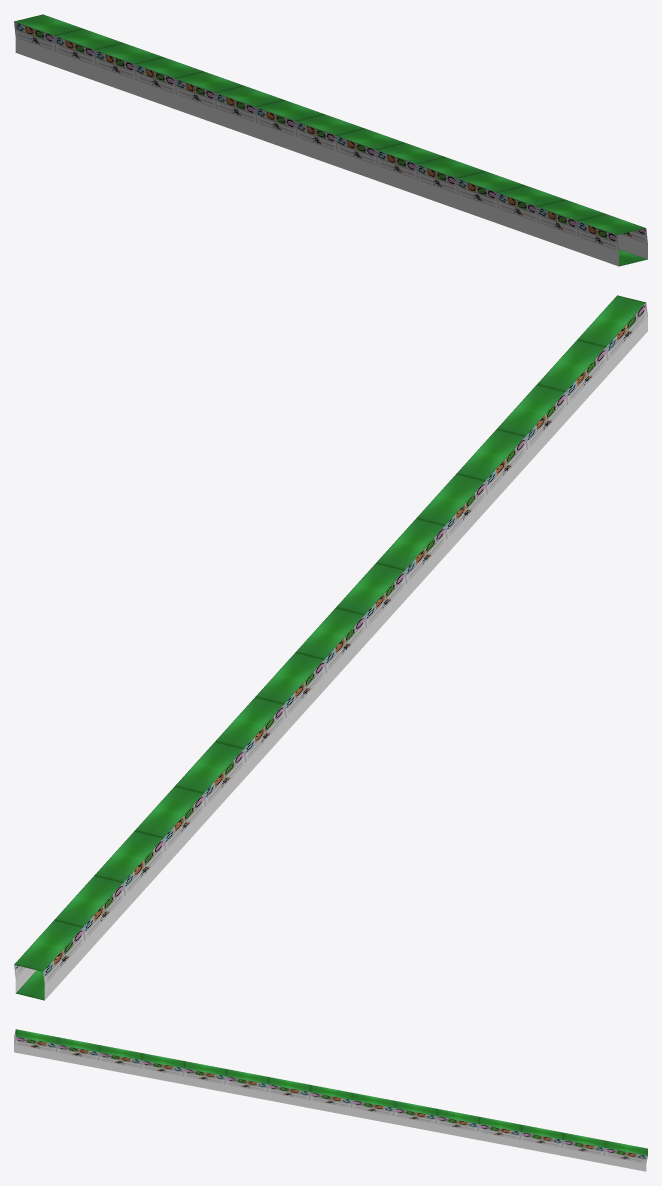
File: CourseSpring_Box_Wall_L_5.fbx
The picture shows the model from 3 angles, top to bottom: view 1: azimuth 30°, elevation 25°; view 2: azimuth 150°, elevation 25°; view 3: azimuth 270°, elevation 25°; orthographic projection. The views are drawn at different scales.
Parts seen in each view (by area): view 1: polySurface39; view 2: polySurface39; view 3: polySurface39.
Part boxes in pixels (box(x1,y1,x2,y2)): polySurface39: box(14, 14, 647, 266); polySurface39: box(14, 295, 647, 1000); polySurface39: box(14, 1029, 647, 1171).
Size of the model in its own units: 2 by 16.98 by 72.2.
Materials: 1 (1 with a texture image).
